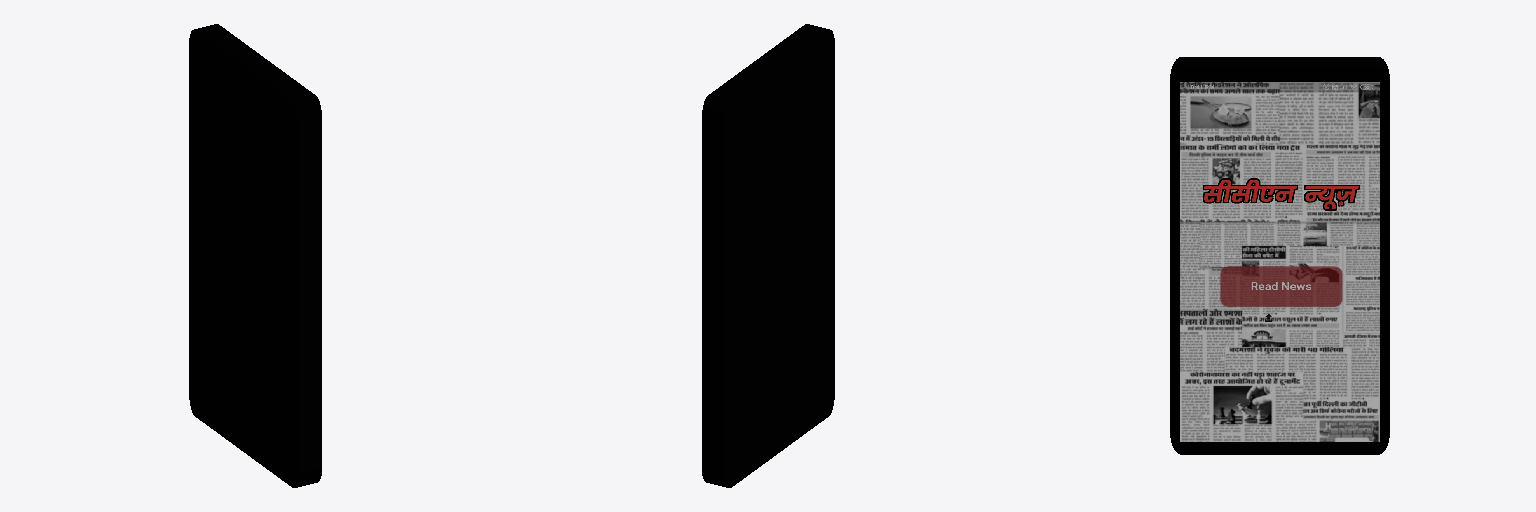
3 views of the same model, side by side, from view 1: azimuth 30°, elevation 25°; view 2: azimuth 150°, elevation 25°; view 3: azimuth 270°, elevation 25° (orthographic).
Visible parts, largest first — view 1: ccn_cube_Cube.001; view 2: ccn_cube_Cube.001; view 3: ccn_codedocs.001, ccn_cube_Cube.001.
Boxes of the visible parts, x1=… form: ccn_cube_Cube.001: x1=189, y1=24, x2=321, y2=487; ccn_cube_Cube.001: x1=702, y1=24, x2=834, y2=487; ccn_codedocs.001: x1=1180, y1=82, x2=1379, y2=441; ccn_cube_Cube.001: x1=1170, y1=57, x2=1389, y2=454.
Size of the model in its own units: 0.2048 by 3.1 by 1.59.
Materials: 2 (1 with a texture image).